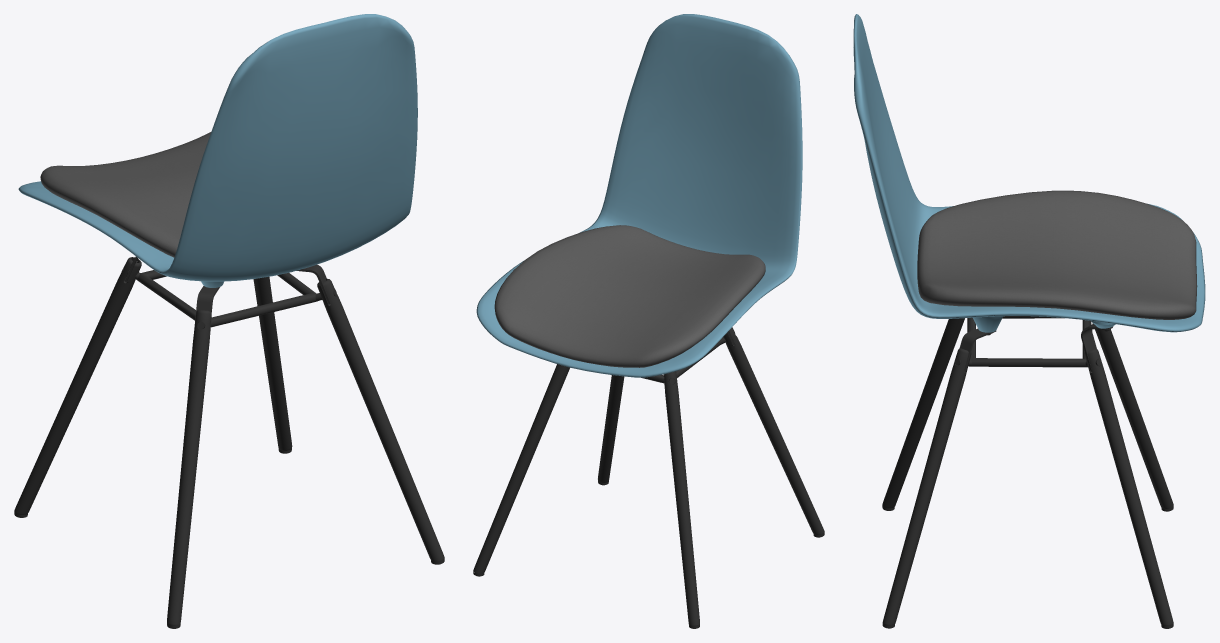
Rendered from cadeira.glb.
3 renders of one model, left to right at view 1: azimuth 30°, elevation 25°; view 2: azimuth 150°, elevation 25°; view 3: azimuth 270°, elevation 25°, orthographic. The views are drawn at different scales.
Visible parts, largest first — view 1: Awe_chair; view 2: Awe_chair; view 3: Awe_chair.
Part boxes in pixels (x1,y1,x2,y2): Awe_chair: (14, 14, 444, 628); Awe_chair: (473, 14, 824, 628); Awe_chair: (853, 14, 1205, 628).
Bounding box in the file's own units: 0.4215 × 0.8506 × 0.5066.
Materials: 3 (1 with a texture image).
